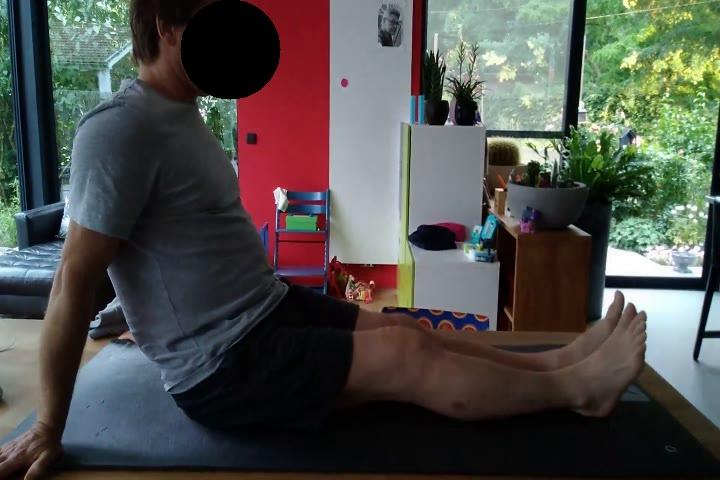lower_body: (172, 288, 650, 424)
